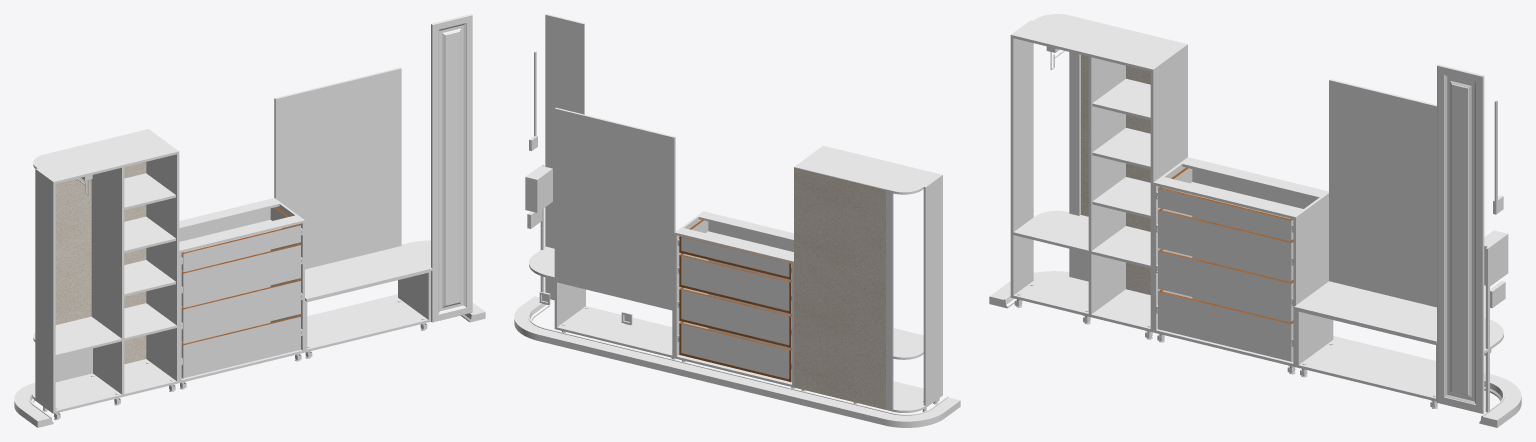
File: Prihozhaya.glb
The picture shows the model from 3 angles, left to right: view 1: azimuth 30°, elevation 25°; view 2: azimuth 150°, elevation 25°; view 3: azimuth 330°, elevation 25°; orthographic projection. The views are drawn at different scales.
Parts seen in each view (by area): view 1: 1.001; view 2: 1.001; view 3: 1.001.
Part boxes in pixels (left/top/right/bottom): 1.001: left=14, top=14, right=485, bottom=427; 1.001: left=514, top=14, right=960, bottom=427; 1.001: left=989, top=14, right=1521, bottom=427.
Size of the model in its own units: 3.51 by 2.29 by 0.546.
16 materials, 2 textured.
